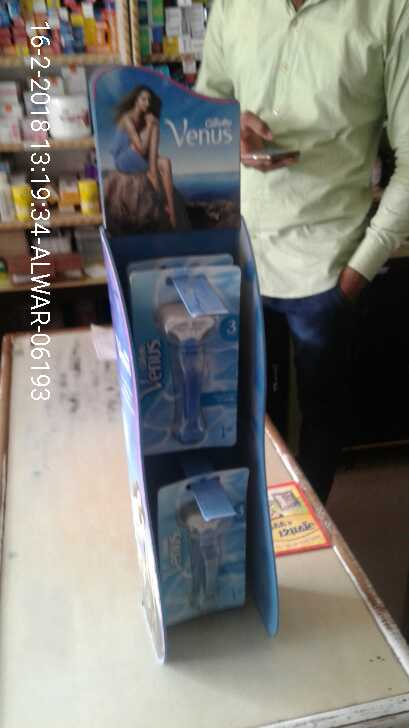venus: (130, 278, 247, 457), (153, 461, 256, 627)
